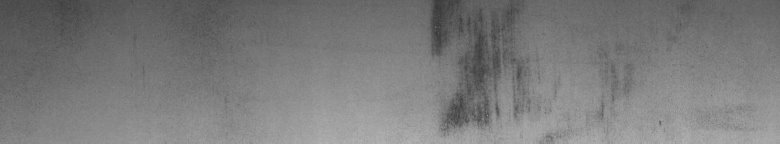ka: (428, 4, 521, 128)
